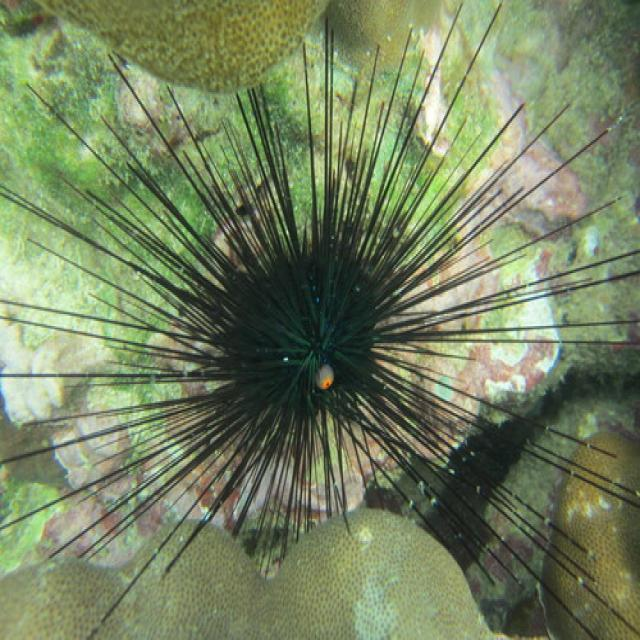Urchin: (4, 8, 640, 635)
